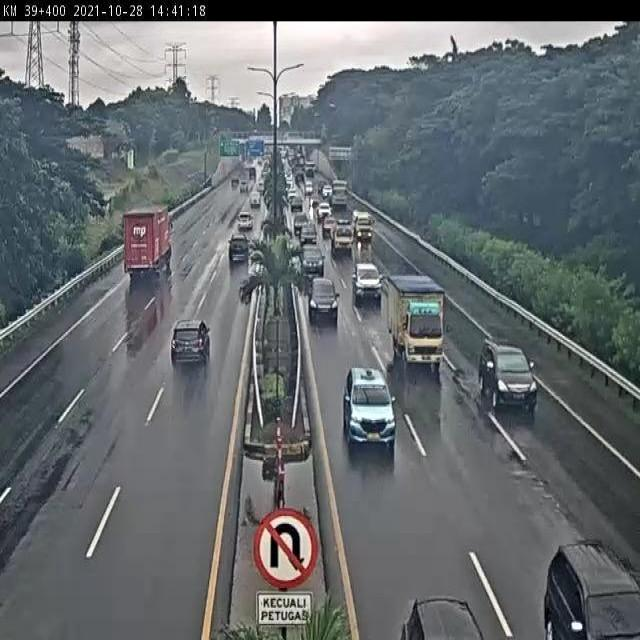car: (342, 365, 396, 448), (478, 336, 537, 409), (170, 317, 210, 372), (306, 278, 340, 326), (352, 262, 383, 306), (300, 243, 326, 276), (226, 231, 251, 261)
mid truck: (123, 210, 173, 282)
truck-m-: (384, 270, 441, 366)
